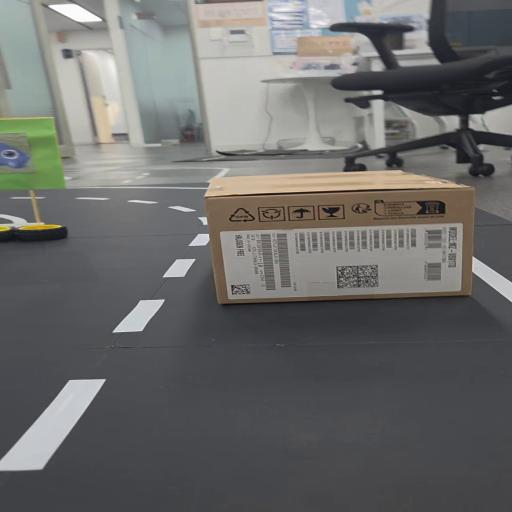Box: (194, 170, 488, 306)
